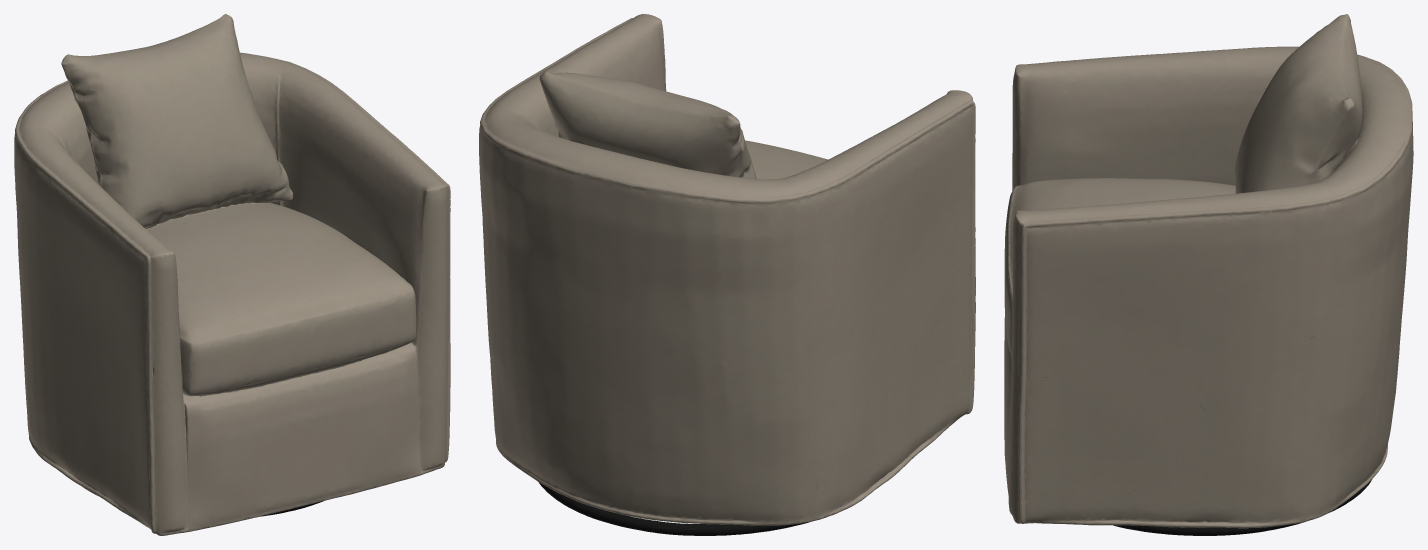
Rendered from 20_桶形休闲转椅.glb.
3 views of the same model, side by side, from view 1: azimuth 30°, elevation 25°; view 2: azimuth 150°, elevation 25°; view 3: azimuth 270°, elevation 25° (orthographic). The views are drawn at different scales.
Parts seen in each view (by area): view 1: world; view 2: world; view 3: world.
Part boxes in pixels (bbox=[...]): world: bbox=[14, 14, 450, 535]; world: bbox=[479, 14, 975, 535]; world: bbox=[1004, 14, 1413, 535].
Bounding box in the file's own units: 0.8731 × 1 × 0.9108.
1 material, 1 textured.
